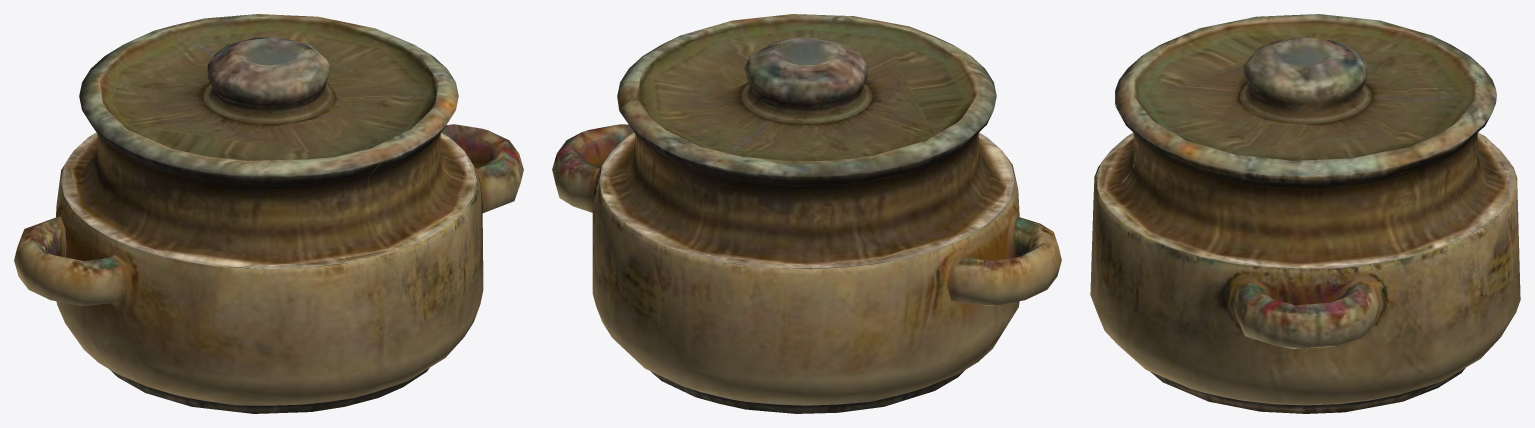
The model's file is clay_pot.glb.
The picture shows the model from 3 angles, left to right: view 1: azimuth 30°, elevation 25°; view 2: azimuth 150°, elevation 25°; view 3: azimuth 270°, elevation 25°; orthographic projection.
Parts seen in each view (by area): view 1: ceramic_pot; view 2: ceramic_pot; view 3: ceramic_pot.
Part boxes in pixels (left/top/right/bottom): ceramic_pot: left=14, top=14, right=523, bottom=413; ceramic_pot: left=552, top=14, right=1061, bottom=413; ceramic_pot: left=1090, top=14, right=1520, bottom=413.
Size of the model in its own units: 0.6563 by 0.3717 by 0.5012.
1 material, 1 textured.
